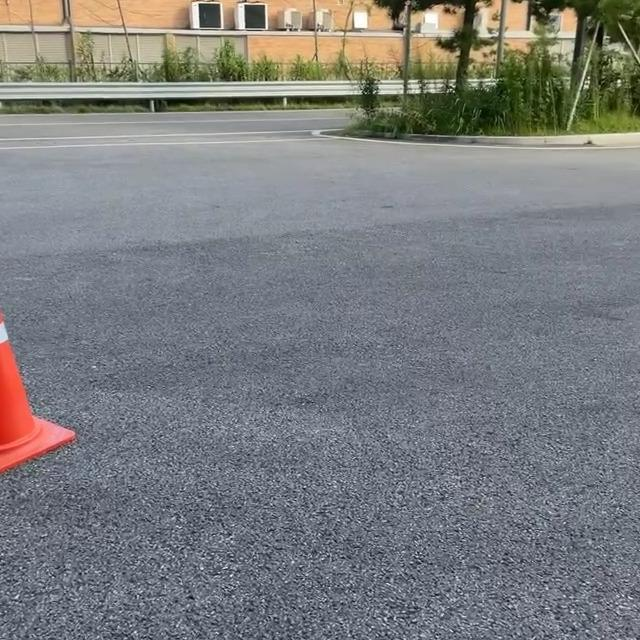fallen_object: (0, 278, 98, 491)
